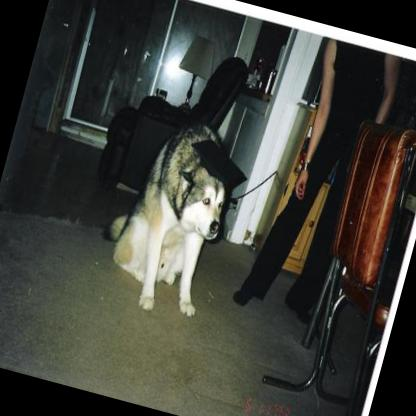malamute: (85, 107, 243, 321)
